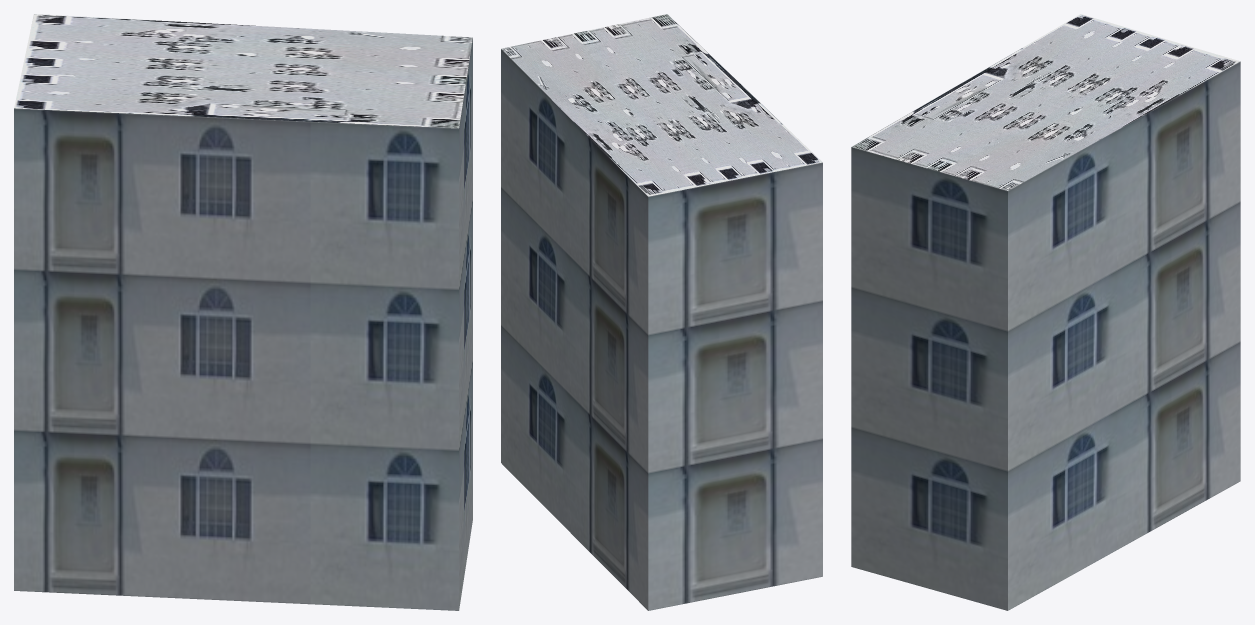
File: ResTex__4985.fbx
3 renders of one model, left to right at view 1: azimuth 30°, elevation 25°; view 2: azimuth 150°, elevation 25°; view 3: azimuth 270°, elevation 25°, orthographic. The views are drawn at different scales.
Parts seen in each view (by area): view 1: CityEngineMaterial_17_m, CityEngineMaterial_4_m; view 2: CityEngineMaterial_17_m, CityEngineMaterial_4_m; view 3: CityEngineMaterial_17_m, CityEngineMaterial_4_m.
Boxes of the visible parts, left/top/right/bottom form: CityEngineMaterial_17_m: left=14, top=38, right=472, bottom=610; CityEngineMaterial_4_m: left=14, top=14, right=472, bottom=128; CityEngineMaterial_17_m: left=501, top=49, right=822, bottom=610; CityEngineMaterial_4_m: left=501, top=14, right=822, bottom=196; CityEngineMaterial_17_m: left=851, top=61, right=1240, bottom=610; CityEngineMaterial_4_m: left=852, top=14, right=1240, bottom=190.
Bounding box in the file's own units: 8.14 × 9 × 7.56.
Materials: 2 (2 with a texture image).
